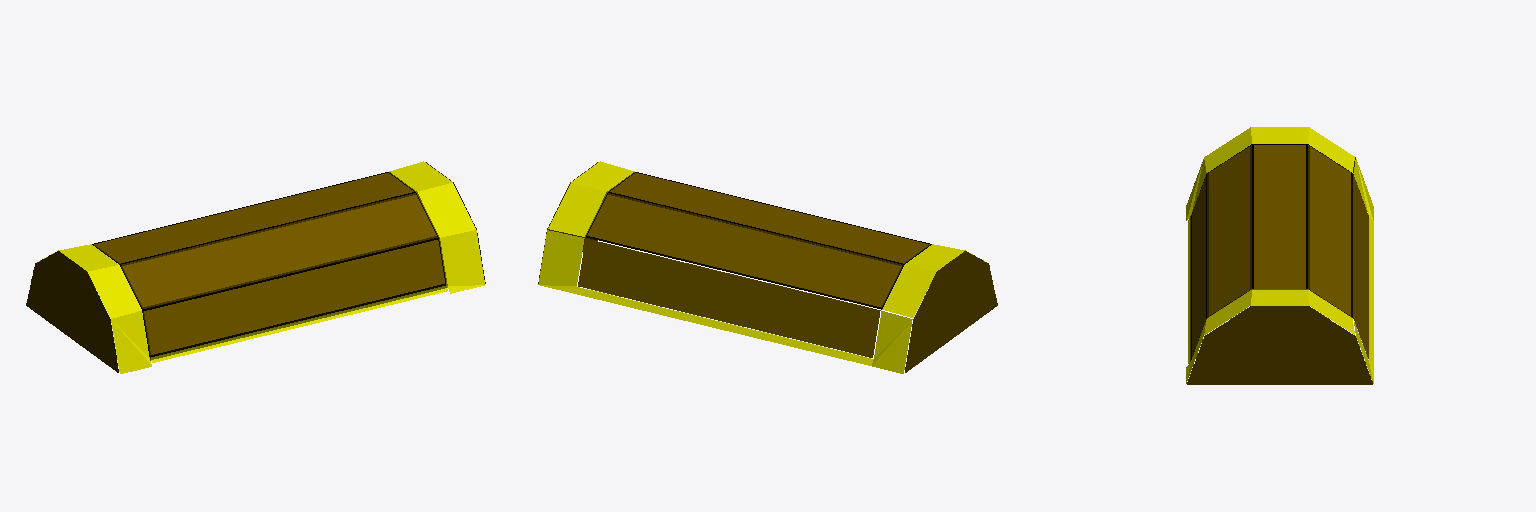
The picture shows the model from 3 angles: view 1: azimuth 30°, elevation 25°; view 2: azimuth 150°, elevation 25°; view 3: azimuth 270°, elevation 25°; orthographic projection.
Parts seen in each view (by area): view 1: pCylinder1; view 2: pCylinder1; view 3: pCylinder1.
Part boxes in pixels (x1,y1,x2,y2): pCylinder1: (26, 161, 485, 373); pCylinder1: (538, 161, 997, 373); pCylinder1: (1186, 127, 1373, 384).
Bounding box in the file's own units: 4.61 × 0.9511 × 2.04.
Materials: 1 (1 with a texture image).